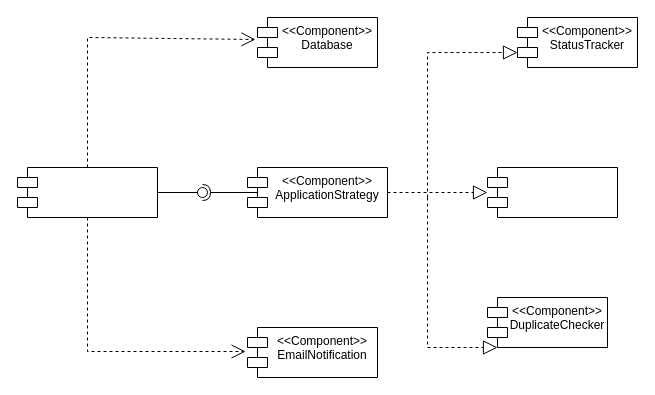
Some shapes in this 655 by 395 pixel diagram are drawn without their labels. The shapes that lost their labels are listed below. From the top down, each one's centre as x and y in pixels, then its label:
(87,192): <<Component>> ApplicationManager
(552,192): <<Component>> SubmissionHandler
